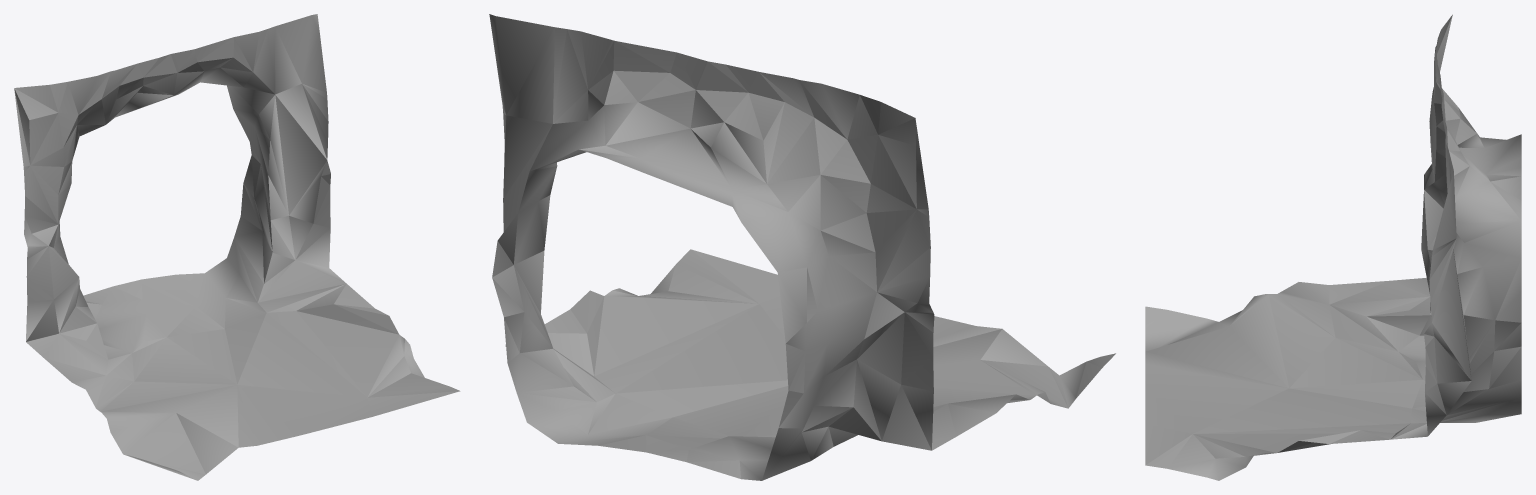
File: WallFloorTunnelEntrance1.fbx
3 renders of one model, left to right at view 1: azimuth 30°, elevation 25°; view 2: azimuth 150°, elevation 25°; view 3: azimuth 270°, elevation 25°, orthographic. The views are drawn at different scales.
Visible parts, largest first — view 1: WallFloorTunnelEntrance1; view 2: WallFloorTunnelEntrance1; view 3: WallFloorTunnelEntrance1.
Boxes of the visible parts, bbox=[...] form: WallFloorTunnelEntrance1: bbox=[14, 14, 460, 480]; WallFloorTunnelEntrance1: bbox=[489, 14, 1115, 480]; WallFloorTunnelEntrance1: bbox=[1145, 14, 1521, 480].
Bounding box in the file's own units: 500 × 469 × 500.
